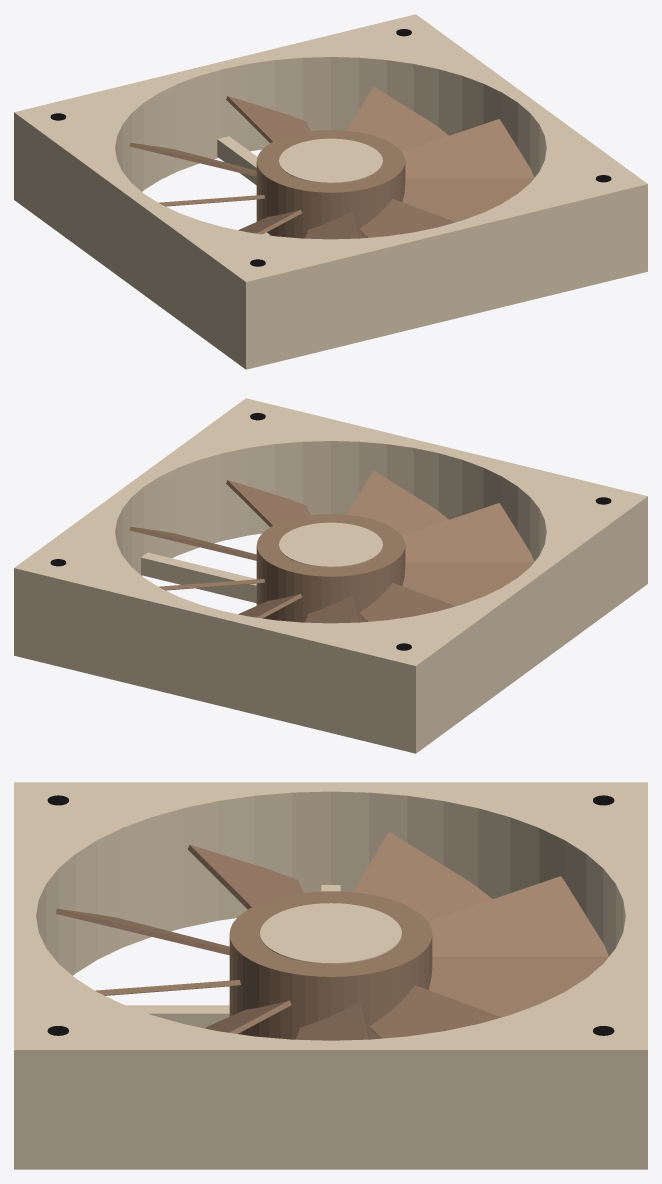
The model's file is Kipas Casing i7.fbx.
The picture shows the model from 3 angles, top to bottom: view 1: azimuth 30°, elevation 25°; view 2: azimuth 150°, elevation 25°; view 3: azimuth 270°, elevation 25°; orthographic projection. The views are drawn at different scales.
Parts seen in each view (by area): view 1: 09_KipasCasing_i7_Bingkai, 09_KipasCasing_i7_Bilah, 09_KipasCasing_i7_Hub, 09_KipasCasing_i7_Logo, 09_KipasCasing_i7_Penyangga; view 2: 09_KipasCasing_i7_Bingkai, 09_KipasCasing_i7_Bilah, 09_KipasCasing_i7_Hub, 09_KipasCasing_i7_Logo, 09_KipasCasing_i7_Penyangga; view 3: 09_KipasCasing_i7_Bingkai, 09_KipasCasing_i7_Bilah, 09_KipasCasing_i7_Hub, 09_KipasCasing_i7_Logo, 09_KipasCasing_i7_Penyangga, 09_KipasCasing_i7_Sekrup.
Boxes of the visible parts, left/top/right/bottom form: 09_KipasCasing_i7_Bingkai: left=14, top=14, right=647, bottom=369; 09_KipasCasing_i7_Bilah: left=129, top=86, right=534, bottom=239; 09_KipasCasing_i7_Hub: left=256, top=130, right=405, bottom=238; 09_KipasCasing_i7_Logo: left=279, top=138, right=382, bottom=183; 09_KipasCasing_i7_Penyangga: left=217, top=136, right=270, bottom=235; 09_KipasCasing_i7_Bingkai: left=14, top=398, right=647, bottom=753; 09_KipasCasing_i7_Bilah: left=129, top=470, right=534, bottom=623; 09_KipasCasing_i7_Hub: left=256, top=514, right=405, bottom=622; 09_KipasCasing_i7_Logo: left=279, top=522, right=382, bottom=567; 09_KipasCasing_i7_Penyangga: left=141, top=552, right=256, bottom=603; 09_KipasCasing_i7_Bingkai: left=14, top=782, right=647, bottom=1169; 09_KipasCasing_i7_Bilah: left=56, top=832, right=608, bottom=1040; 09_KipasCasing_i7_Hub: left=229, top=891, right=432, bottom=1039; 09_KipasCasing_i7_Logo: left=260, top=903, right=401, bottom=963; 09_KipasCasing_i7_Penyangga: left=126, top=885, right=340, bottom=1028; 09_KipasCasing_i7_Sekrup: left=47, top=795, right=614, bottom=1035.
Size of the model in its own units: 12 by 2.52 by 12.
